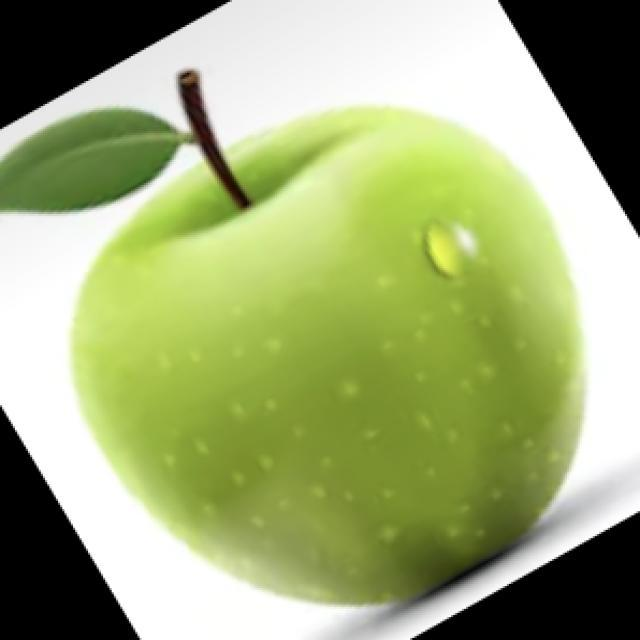Apple: (68, 101, 587, 607)
